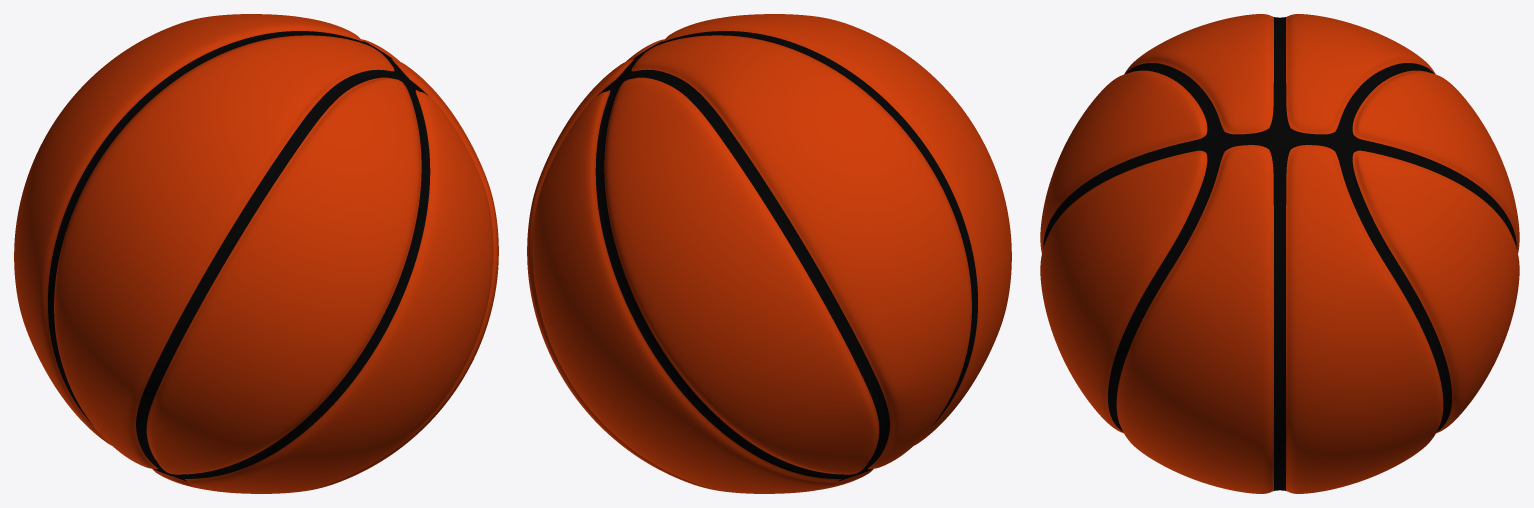
The model's file is buckets-ball.obj.
3 renders of one model, left to right at view 1: azimuth 30°, elevation 25°; view 2: azimuth 150°, elevation 25°; view 3: azimuth 270°, elevation 25°, orthographic.
Parts seen in each view (by area): view 1: Cube_Cube.006; view 2: Cube_Cube.006; view 3: Cube_Cube.006.
Part boxes in pixels (box(x1,y1,x2,y2)): Cube_Cube.006: box(14, 14, 498, 493); Cube_Cube.006: box(527, 14, 1011, 493); Cube_Cube.006: box(1040, 14, 1519, 493).
Bounding box in the file's own units: 1.68 × 1.68 × 1.67.
